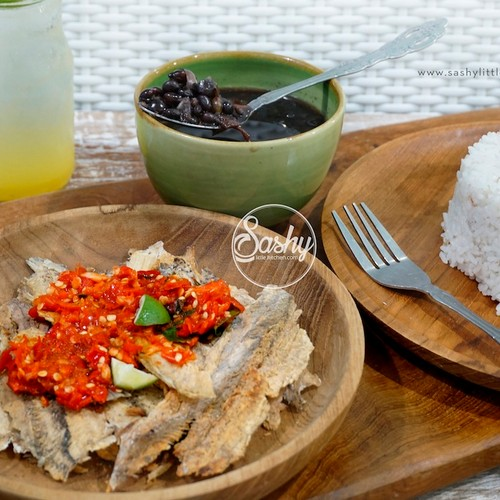sudang lepet: (17, 252, 302, 468)
